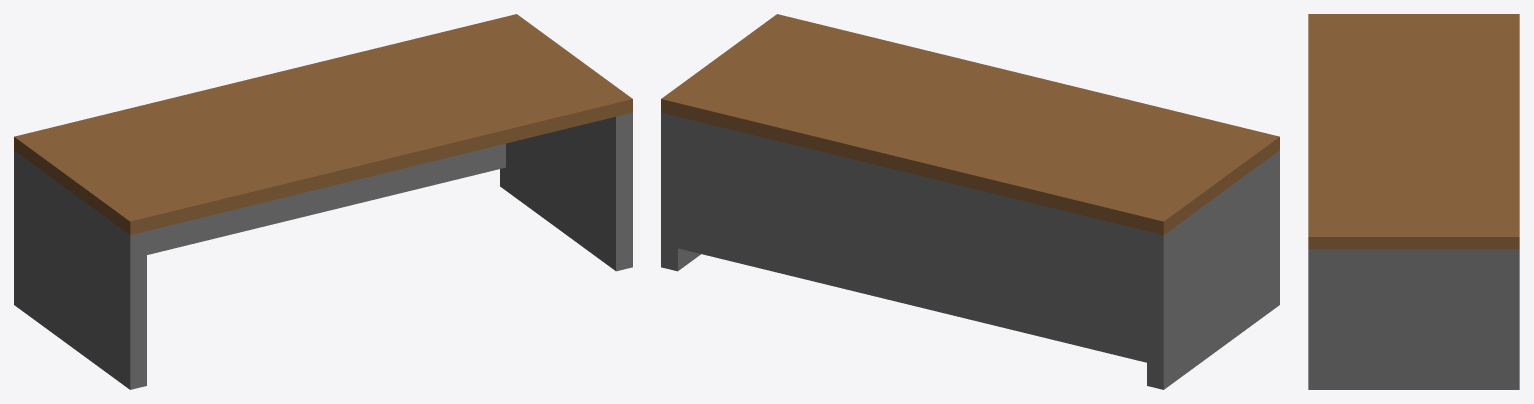
File: LongTable.fbx
3 views of the same model, side by side, from view 1: azimuth 30°, elevation 25°; view 2: azimuth 150°, elevation 25°; view 3: azimuth 270°, elevation 25° (orthographic). The views are drawn at different scales.
Parts seen in each view (by area): view 1: LongTable.001; view 2: LongTable.001; view 3: LongTable.001.
Part boxes in pixels (left/top/right/bottom): LongTable.001: left=14, top=14, right=632, bottom=389; LongTable.001: left=661, top=14, right=1279, bottom=389; LongTable.001: left=1308, top=14, right=1519, bottom=389.
Size of the model in its own units: 2.5 by 1 by 0.8.
